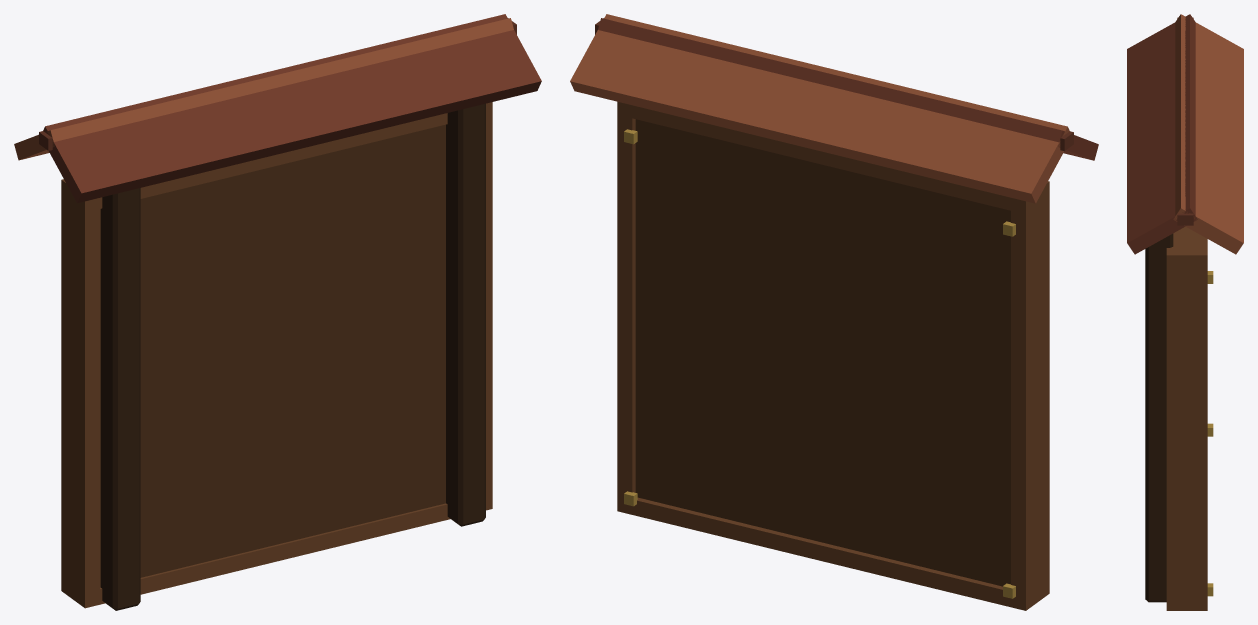
The model's file is StoreBoard.glb.
3 views of the same model, side by side, from view 1: azimuth 30°, elevation 25°; view 2: azimuth 150°, elevation 25°; view 3: azimuth 270°, elevation 25° (orthographic). The views are drawn at different scales.
Visible parts, largest first — view 1: Board, Body; view 2: Board, Body; view 3: Body.
Boxes of the visible parts, box(x1,y1,x2,y2) form: Board: box(100, 124, 445, 587); Body: box(14, 14, 541, 610); Board: box(635, 119, 1010, 586); Body: box(570, 14, 1098, 610); Body: box(1127, 14, 1243, 610).
Size of what is drawn, in the model's own units: 5.7 by 5.56 by 1.42.
